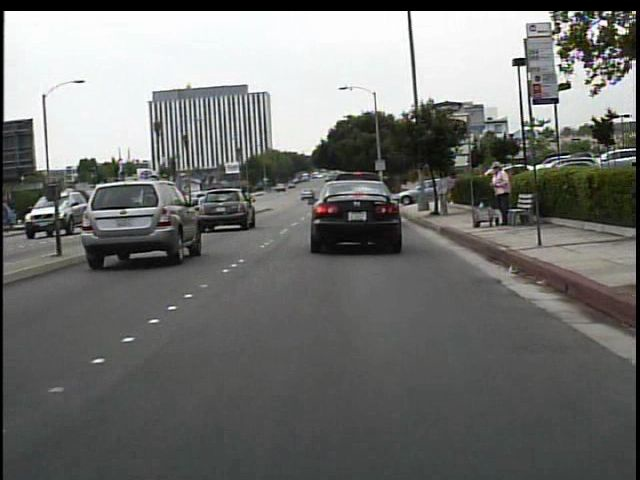person: (484, 160, 514, 228), (433, 166, 460, 218)
